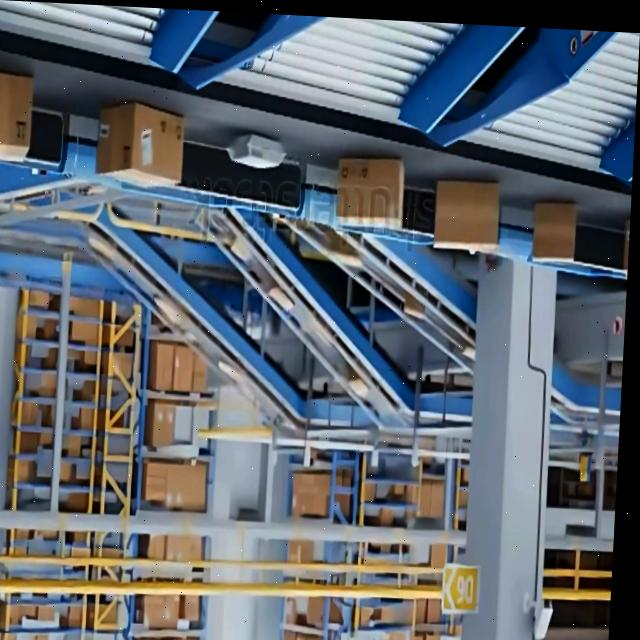product 1: (334, 155, 407, 232), (433, 178, 502, 255), (141, 102, 187, 191), (531, 201, 572, 264)
product 2: (226, 132, 288, 172)
